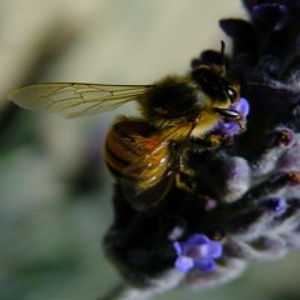bee: (8, 62, 242, 216)
